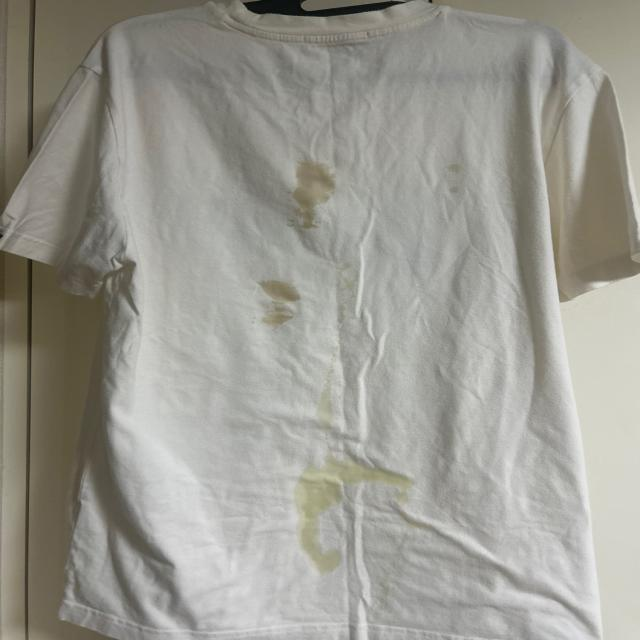stain: (287, 446, 423, 504), (288, 156, 346, 236), (301, 494, 362, 568), (253, 276, 307, 336), (442, 151, 482, 197), (332, 260, 372, 302), (316, 352, 338, 427)
